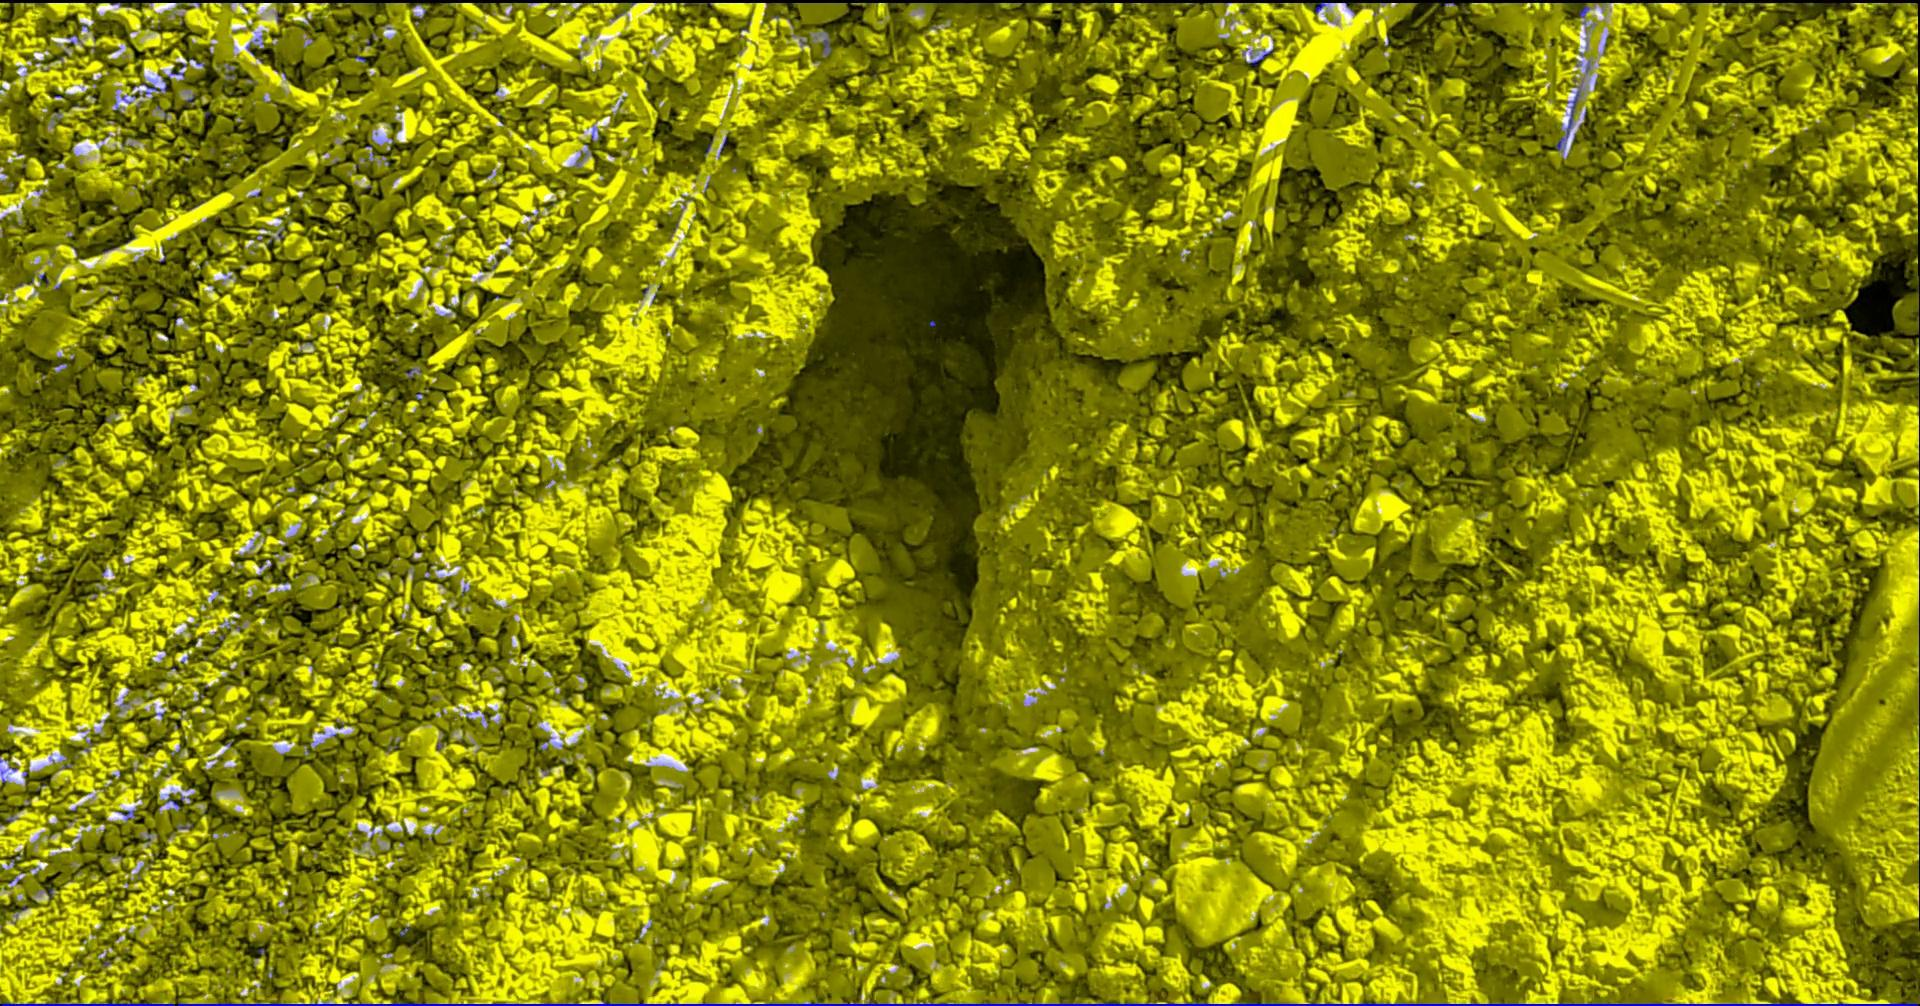ant: (1557, 89, 1581, 150), (143, 80, 168, 94), (1309, 0, 1333, 13), (824, 30, 833, 55)
